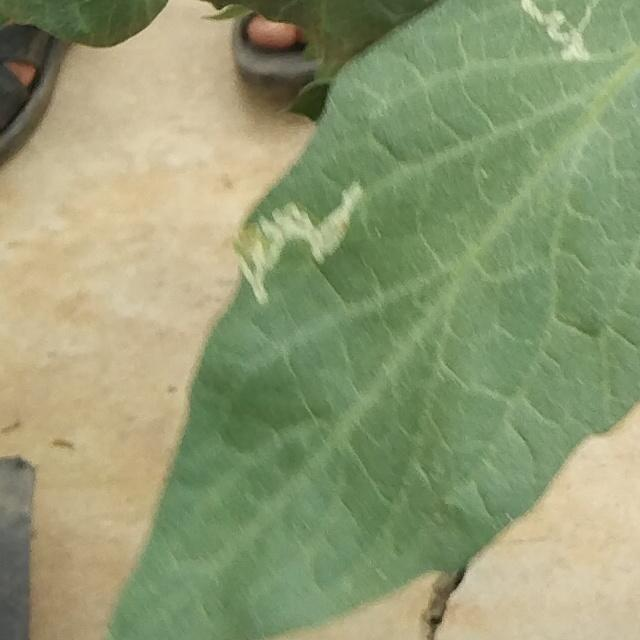Leaf_Miner: (103, 0, 640, 640)
